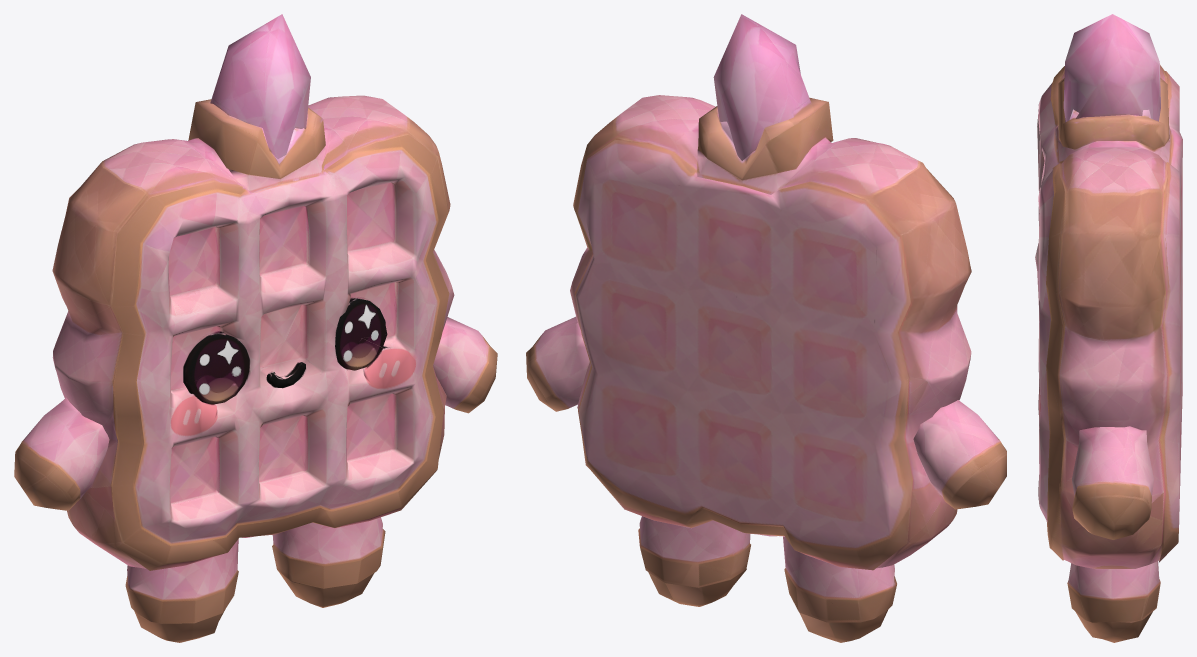
The model's file is source.fbx.
The picture shows the model from 3 angles, left to right: view 1: azimuth 30°, elevation 25°; view 2: azimuth 150°, elevation 25°; view 3: azimuth 270°, elevation 25°; orthographic projection.
Parts seen in each view (by area): view 1: Mesh_0; view 2: Mesh_0; view 3: Mesh_0.
Boxes of the visible parts, x1,y1,x2,y2 form: Mesh_0: [14, 14, 497, 642]; Mesh_0: [526, 14, 1006, 642]; Mesh_0: [1035, 14, 1182, 642].
Size of the model in its own units: 57.35 by 70 by 15.63.
1 material, 1 textured.
